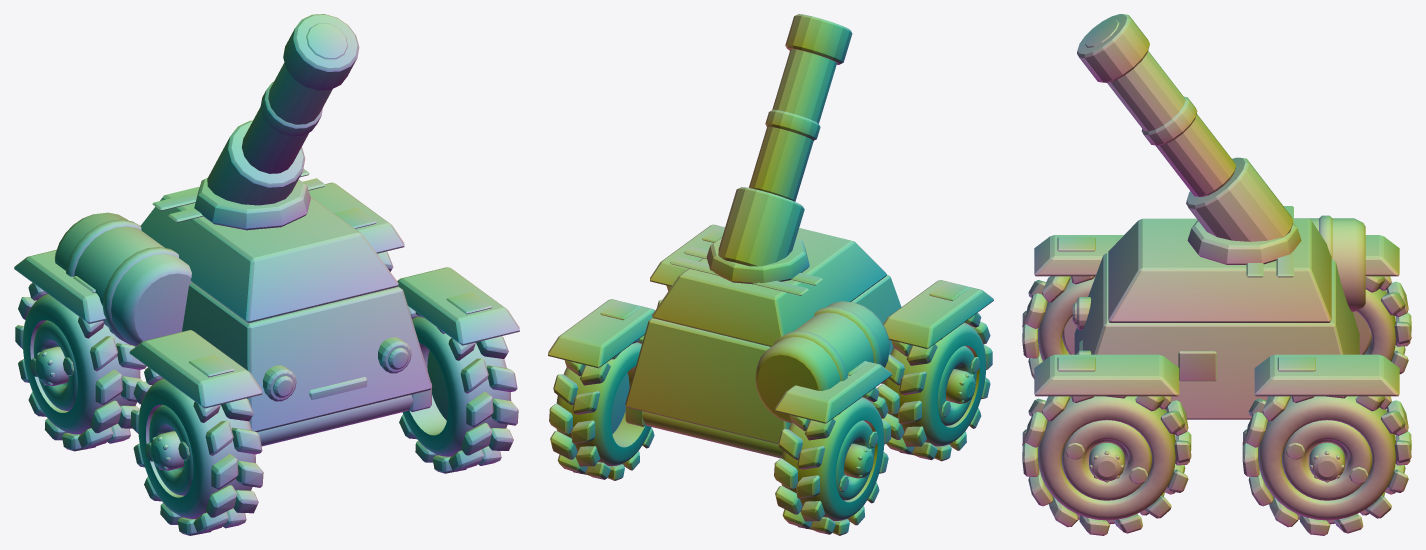
The model's file is lobber_rig.glb.
The picture shows the model from 3 angles, left to right: view 1: azimuth 30°, elevation 25°; view 2: azimuth 150°, elevation 25°; view 3: azimuth 270°, elevation 25°; orthographic projection. The views are drawn at different scales.
Parts seen in each view (by area): view 1: body, wheel_1, wheel_3, barrel, wheel_0, turret; view 2: body, barrel, wheel_3, wheel_1, wheel_2, turret; view 3: body, wheel_2, wheel_0, barrel, wheel_1, wheel_3, turret.
Boxes of the visible parts, left/top/right/bottom form: body: left=14, top=169, right=519, bottom=446; wheel_1: left=131, top=367, right=263, bottom=535; wheel_3: left=15, top=282, right=146, bottom=451; barrel: left=207, top=14, right=359, bottom=205; wheel_0: left=399, top=306, right=518, bottom=473; turret: left=194, top=177, right=310, bottom=230; body: left=548, top=224, right=993, bottom=458; barrel: left=718, top=14, right=852, bottom=266; wheel_3: left=774, top=387, right=890, bottom=535; wheel_1: left=877, top=313, right=992, bottom=461; wheel_2: left=549, top=335, right=654, bottom=480; turret: left=706, top=237, right=809, bottom=284; body: left=1034, top=206, right=1399, bottom=419; wheel_2: left=1242, top=396, right=1411, bottom=535; wheel_0: left=1022, top=396, right=1191, bottom=535; barrel: left=1077, top=14, right=1293, bottom=241; wheel_1: left=1022, top=276, right=1095, bottom=378; wheel_3: left=1353, top=276, right=1411, bottom=374; turret: left=1187, top=220, right=1301, bottom=264.
Bounding box in the file's own units: 6.76 × 8.98 × 7.07.
